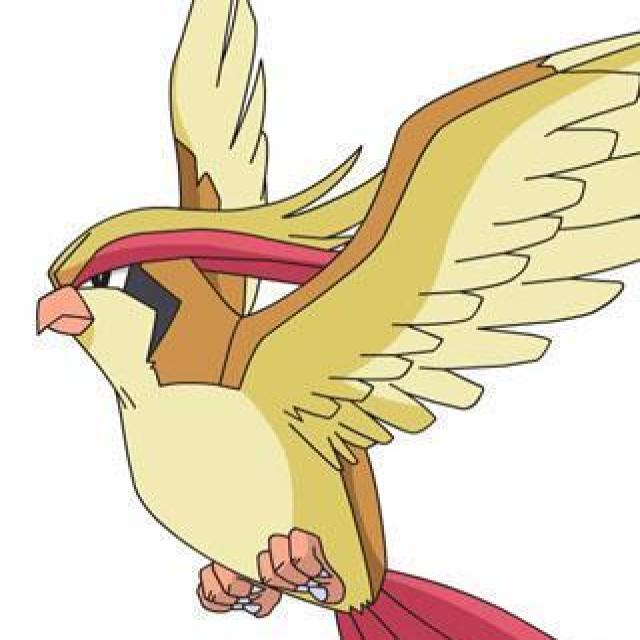Pidgeot: (33, 152, 479, 636)
